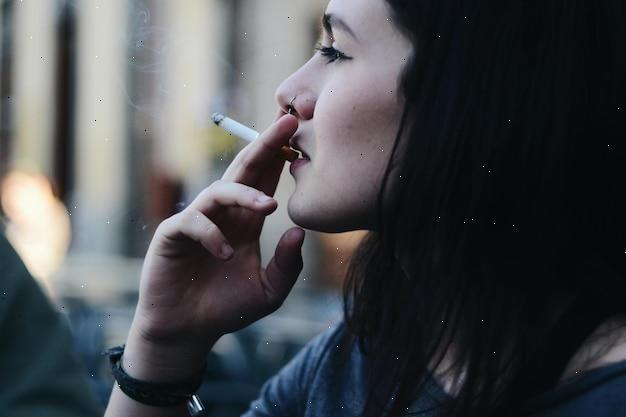cigarette: (212, 113, 258, 141)
